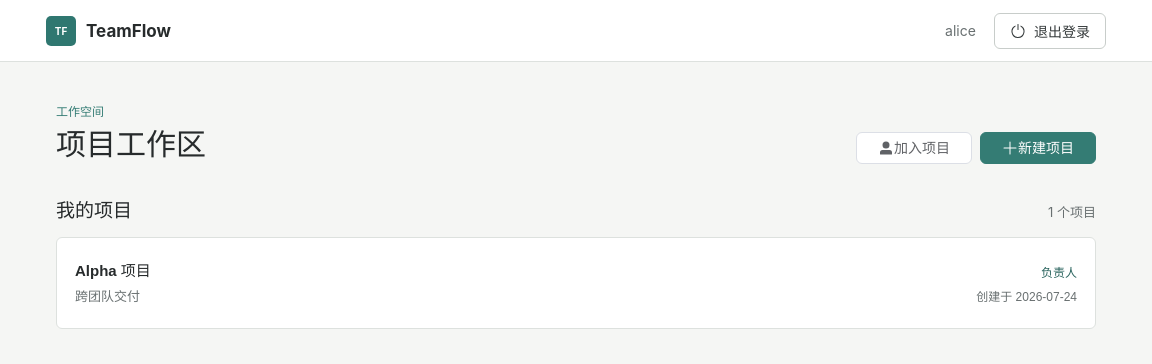
DashboardView › shows a safe navigation alert while preserving the project list
The image size is (1152, 364).
Click the button "Alpha 项目 跨团队交付 负责人 创建于 2026-07-24" at (113, 270), box top-left (56, 237), bottom-right (1096, 329)
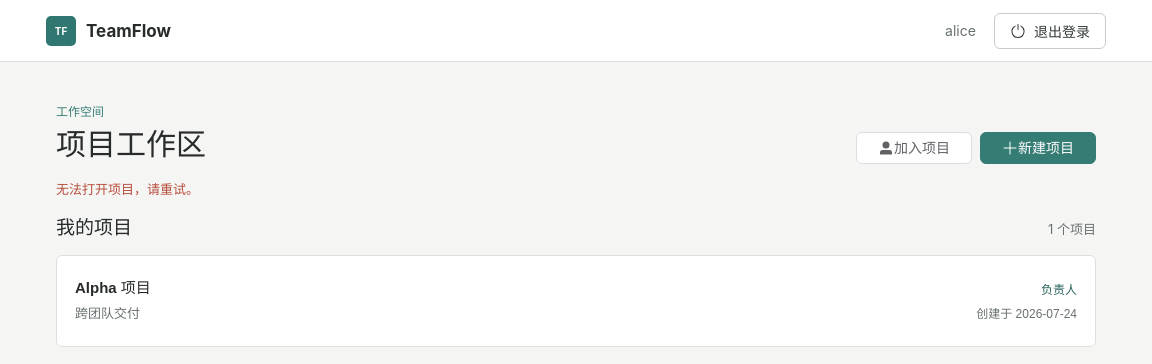
Expected: the number of list items with test id "project-item" is 1, top-left (56, 255), bottom-right (1096, 347)
Now the message with test id "project-navigation-error" reads "无法打开项目，请重试。", box top-left (56, 180), bottom-right (199, 196)
